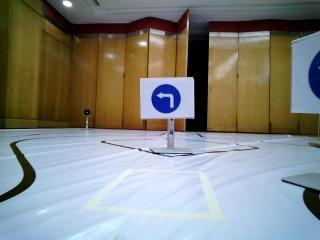left: (141, 80, 192, 118)
